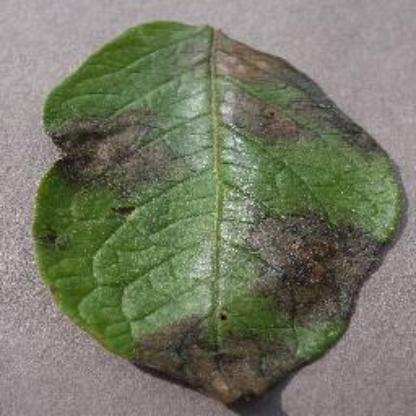Late-Blight: (25, 11, 408, 412)
